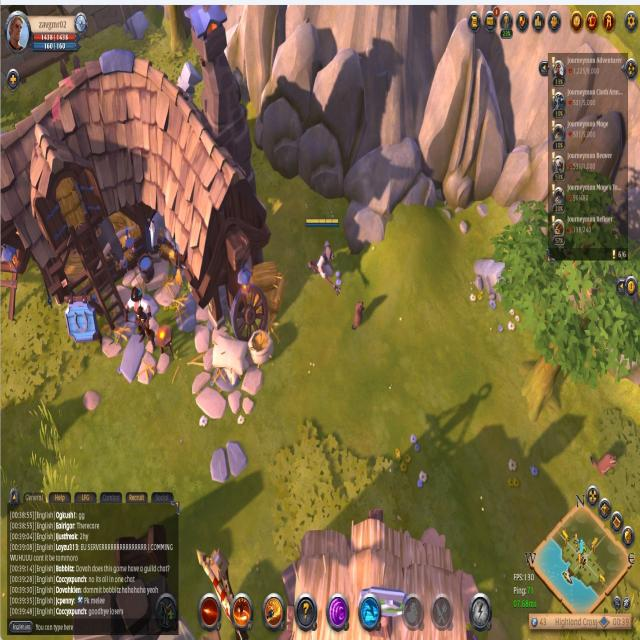stone: (472, 252, 512, 304), (167, 52, 200, 98), (120, 6, 152, 43)
